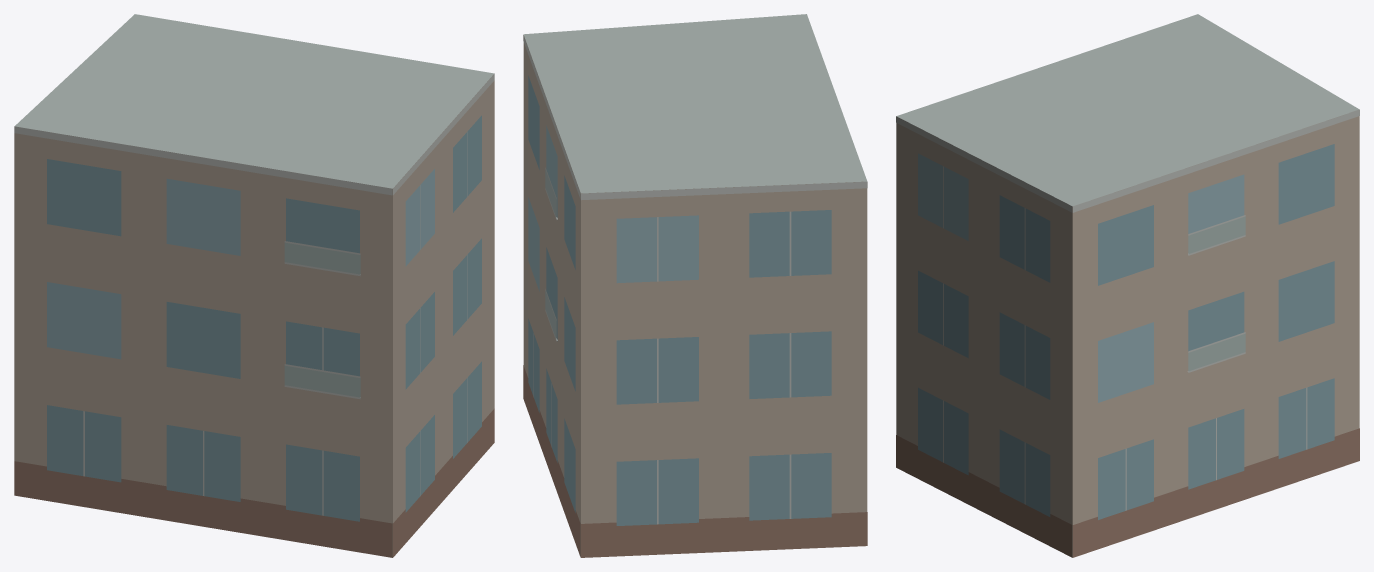
File: survey-upis-32695818.glb
3 renders of one model, left to right at view 1: azimuth 30°, elevation 25°; view 2: azimuth 150°, elevation 25°; view 3: azimuth 270°, elevation 25°, orthographic. The views are drawn at different scales.
Parts seen in each view (by area): view 1: survey-upis-32695818.tmp; view 2: survey-upis-32695818.tmp; view 3: survey-upis-32695818.tmp.
Part boxes in pixels (<box>): survey-upis-32695818.tmp: <box>14,14,494,557</box>; survey-upis-32695818.tmp: <box>523,14,867,557</box>; survey-upis-32695818.tmp: <box>896,14,1359,557</box>.
Bounding box in the file's own units: 15.51 × 13.2 × 15.79.
